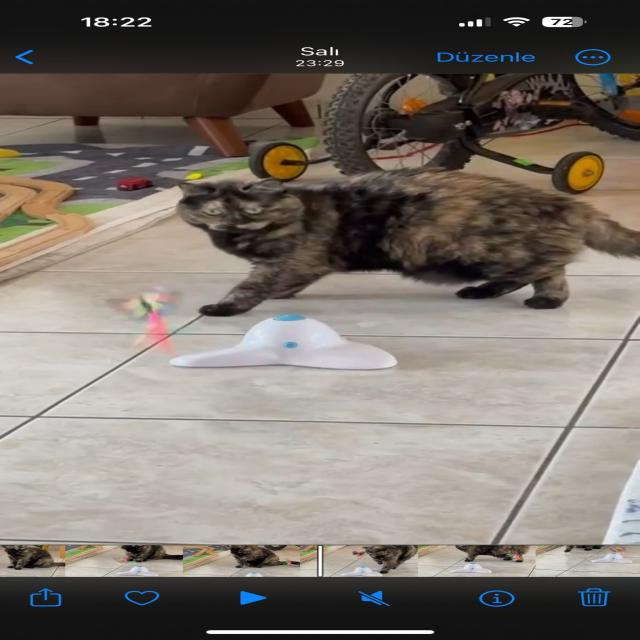authorized: (174, 166, 639, 316), (360, 544, 417, 574), (228, 544, 288, 568), (1, 544, 55, 569), (454, 545, 529, 562), (119, 544, 183, 562)
